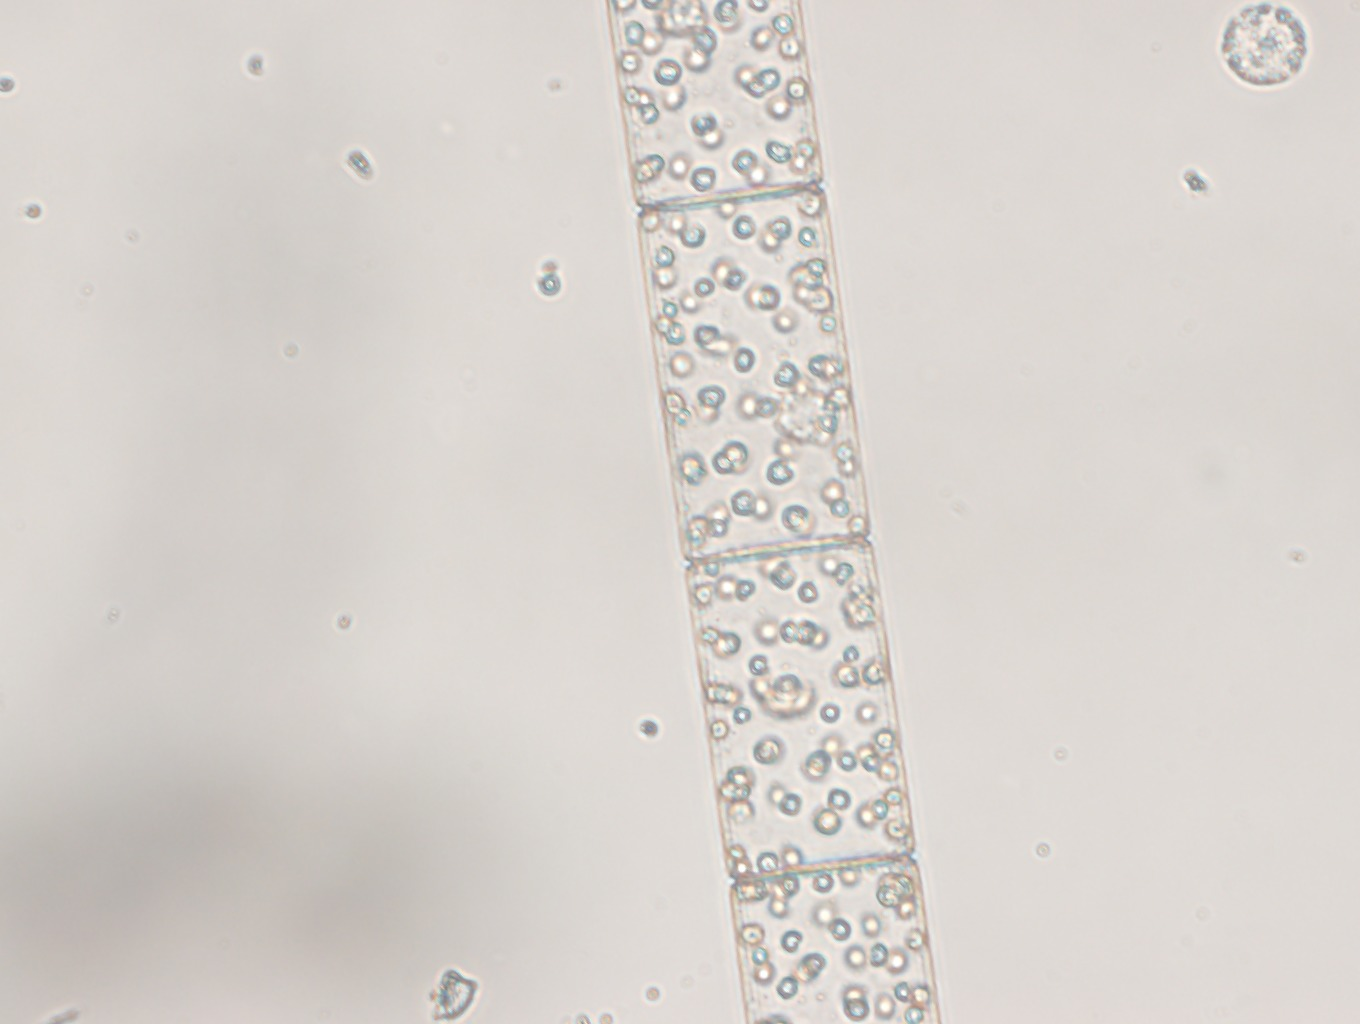guinardia flaccida: (607, 1, 941, 1024)
